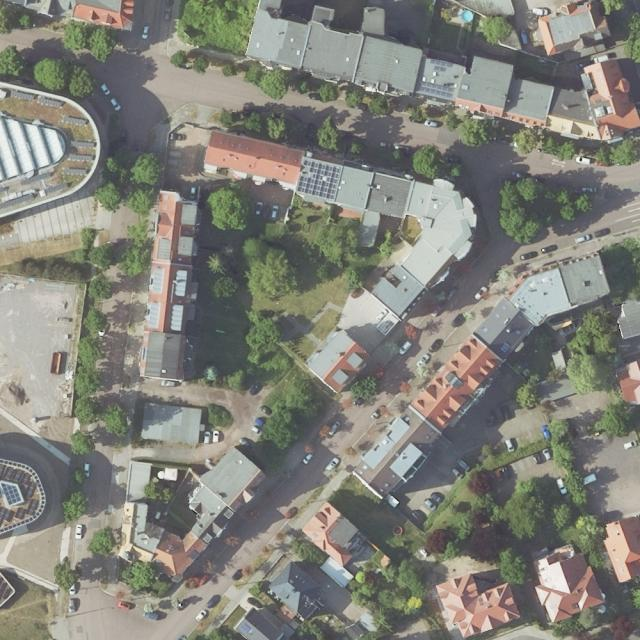PV: (0, 464, 39, 526), (298, 159, 341, 199), (418, 82, 454, 99), (1, 193, 34, 210), (18, 172, 51, 186), (430, 58, 453, 71), (44, 182, 67, 194), (63, 115, 87, 125), (37, 98, 62, 107), (12, 90, 33, 100), (71, 141, 93, 149), (69, 154, 93, 161), (65, 170, 85, 176), (1, 185, 10, 193)
ST: (240, 623, 250, 634), (189, 549, 199, 560)
